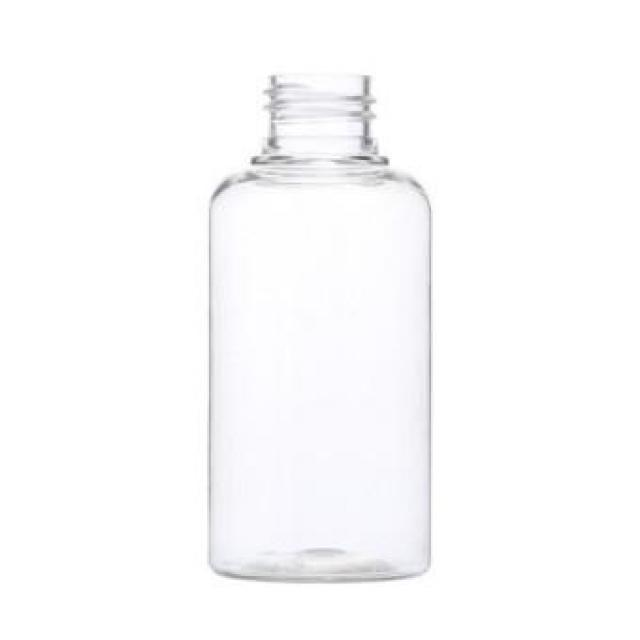bottle: (192, 51, 438, 616)
